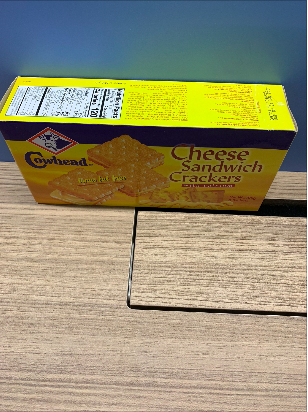Crackers_100-199g: (22, 125, 270, 210)
